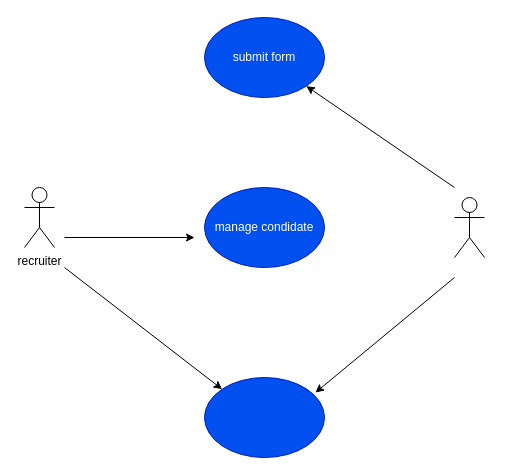
Image size: 512x475. Some labels were removed from this diagram. The centre of each missing label's shape, as x and y in pixels:
"condidate" goes at [469,227].
"select language" goes at [264,417].
